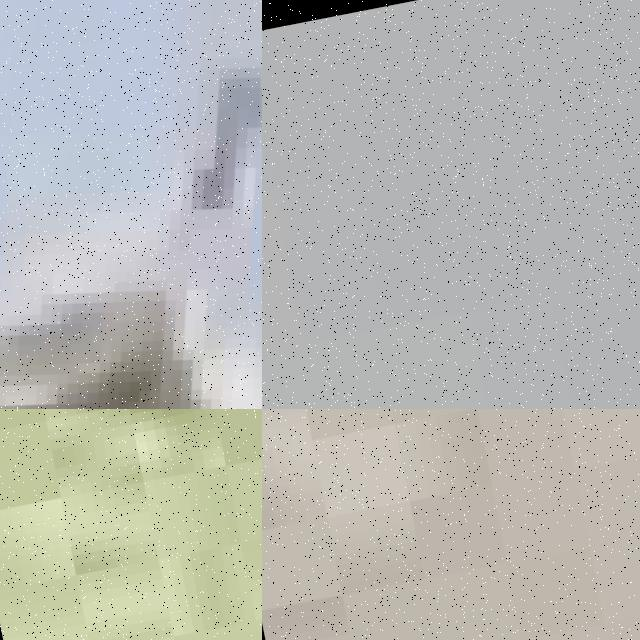drone: (0, 0, 262, 409)
